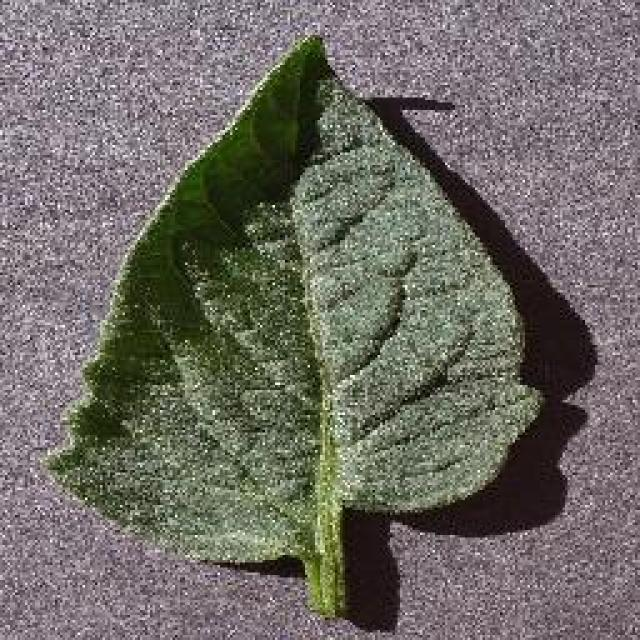healthy: (42, 39, 555, 608)
